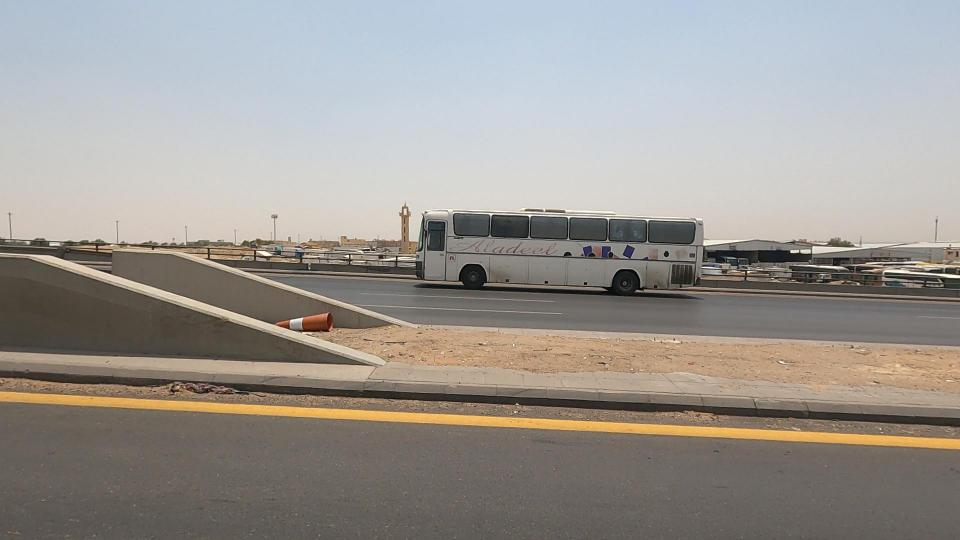FADED_SIGNAGE: (227, 262, 387, 371)
